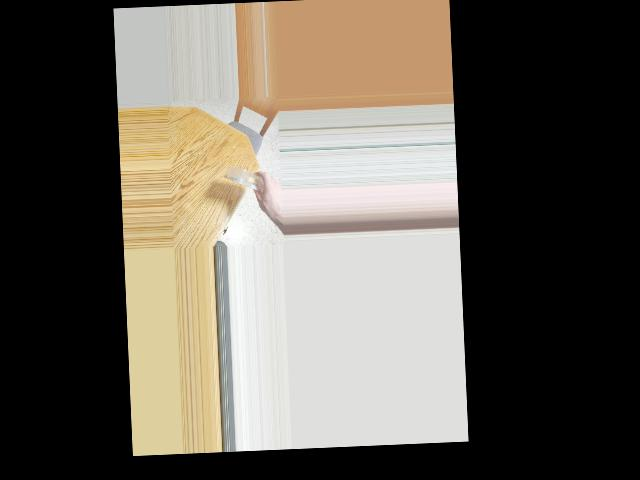cheese: (222, 165, 269, 192)
